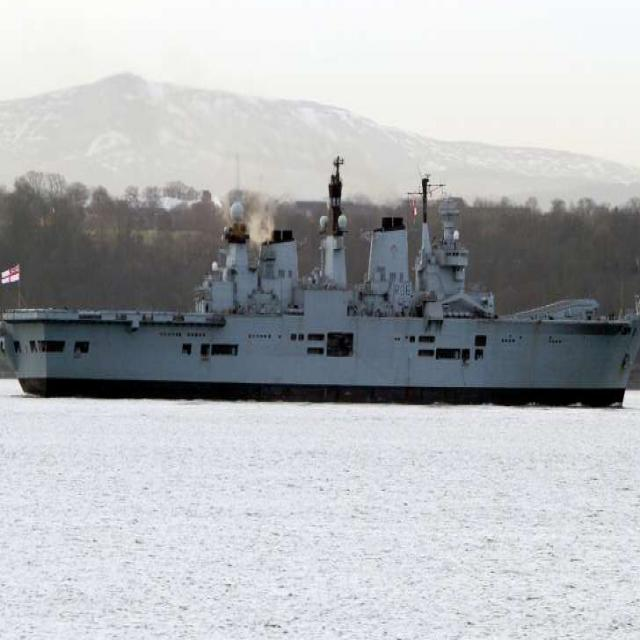Portanaves: (1, 138, 640, 406)
